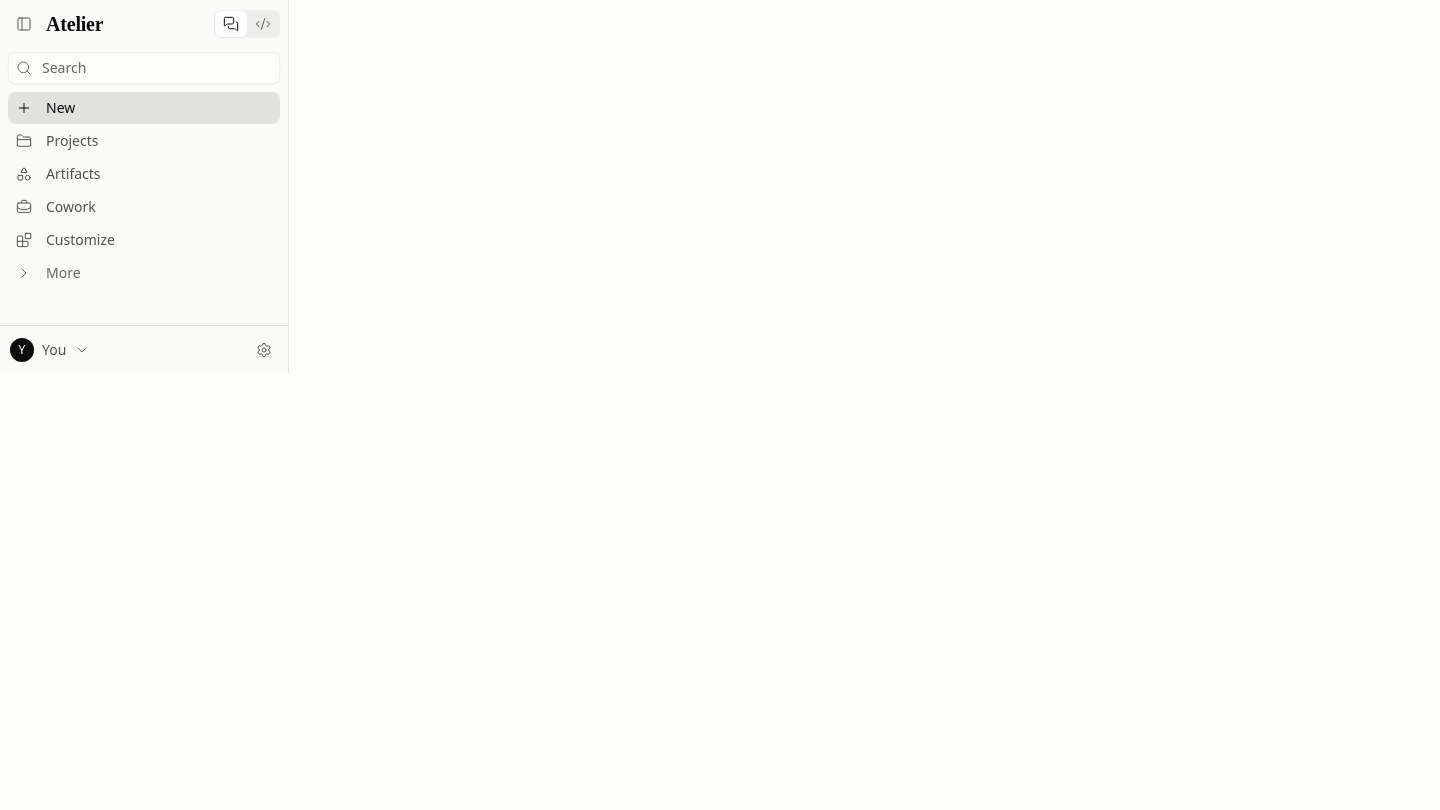
Scenario: Sidebar › has two mode tabs; Chat lists New, Projects, Artifacts, Cowork and Customize, and More opens in place
Expected: the text "Atelier" is shown, [46,12,104,36]
What coordinates should you click on to do the following:
click the link "Cowork"
I would click on:
 (56, 206)
Its box is [16,197,96,216].
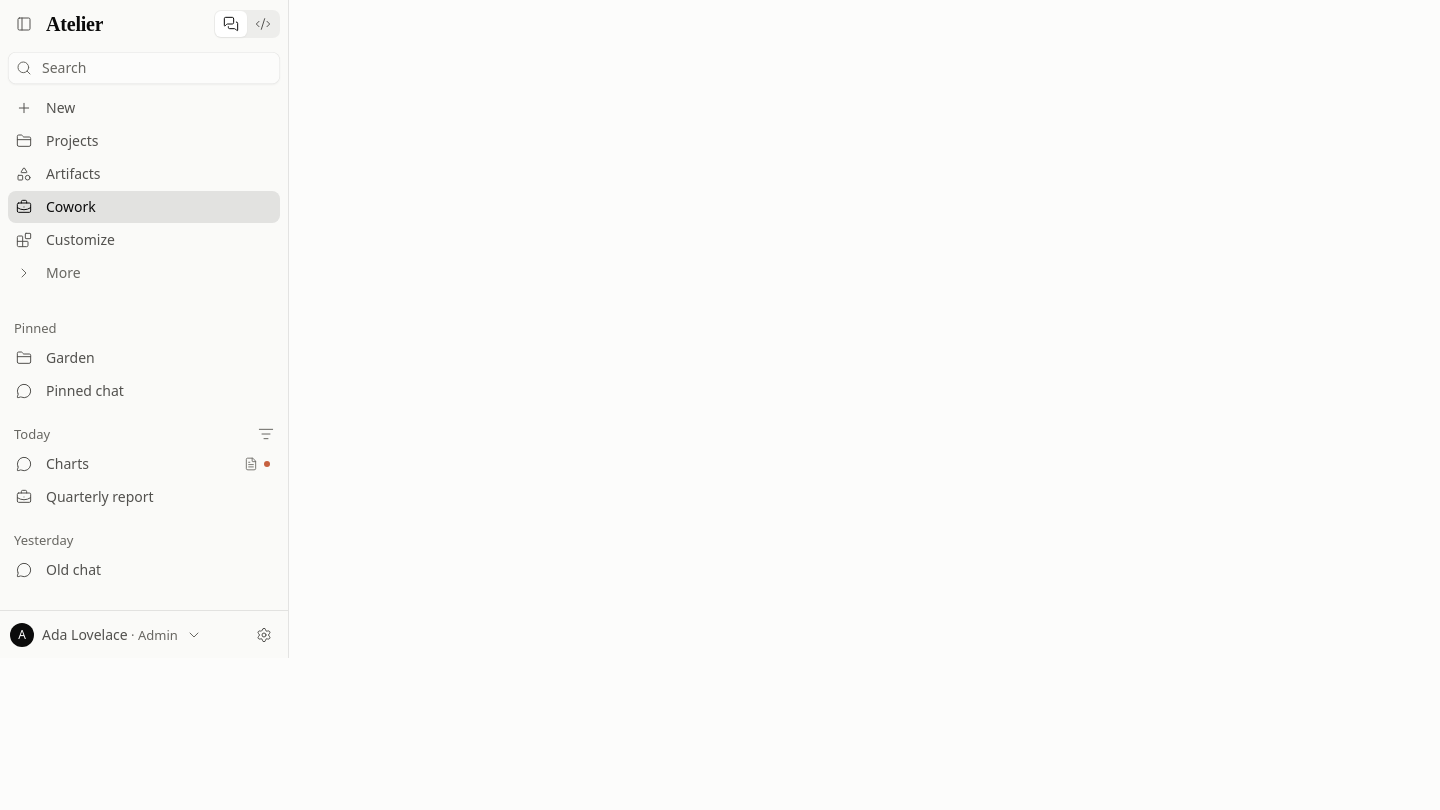
Expected: the button "Keyboard shortcuts" is not shown
What coordinates should you click on to do the following:
click the button "More"
I would click on:
 (63, 272)
Its box is [8,257,280,289].
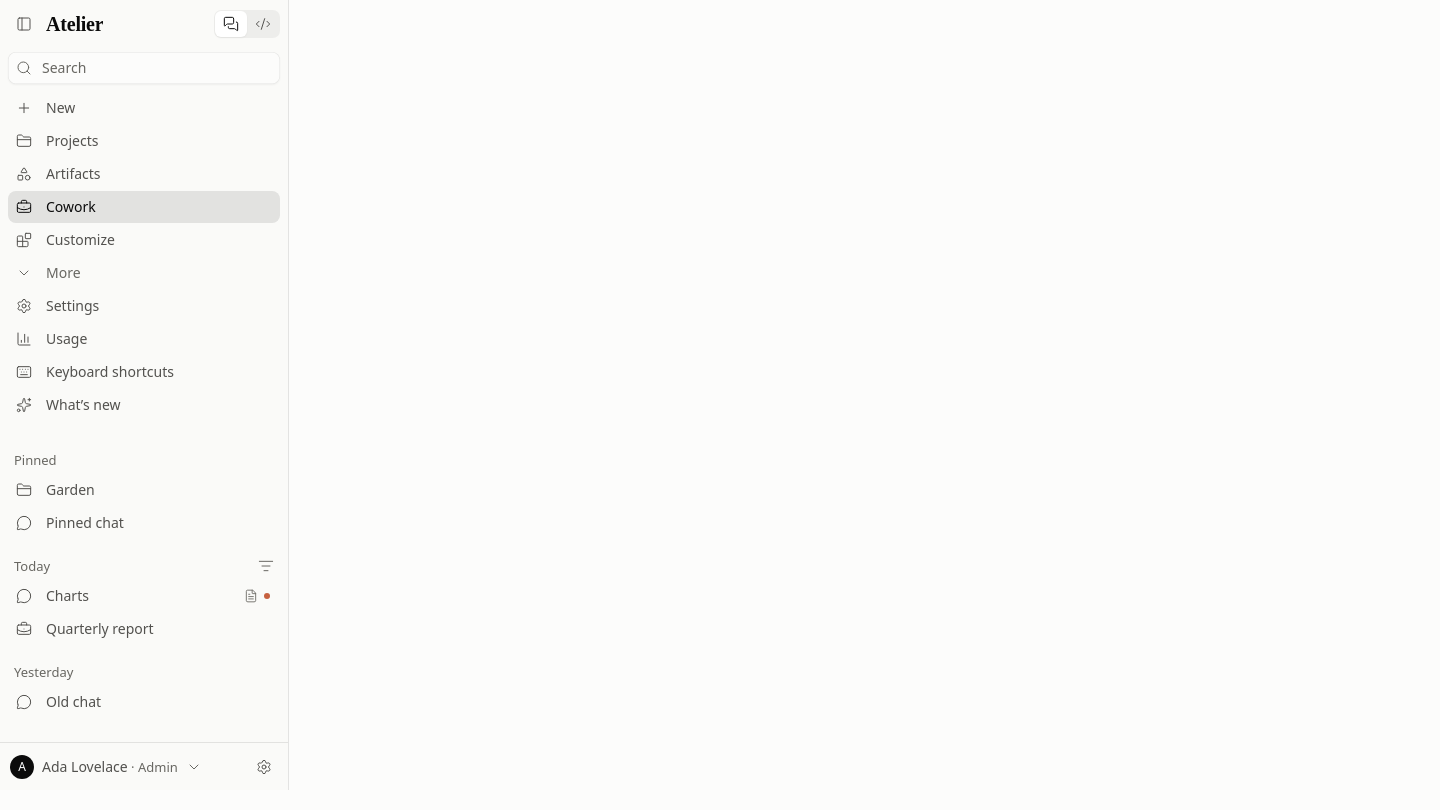
What coordinates should you click on to do the following:
click the button "Keyboard shortcuts"
I would click on:
 (144, 372)
Its box is [8,356,280,388].
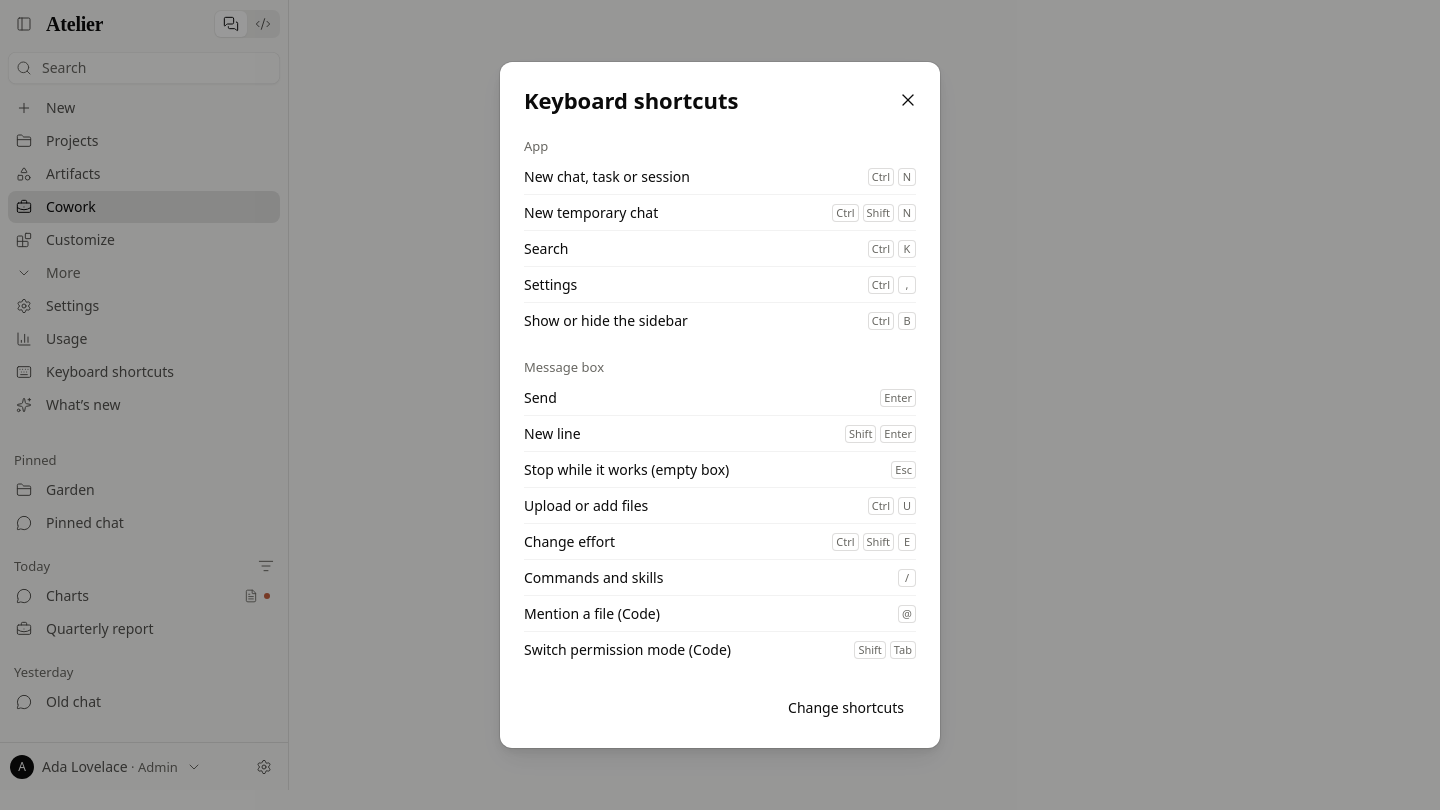
Expected: the dialog "Keyboard shortcuts" is shown, [500,62,940,748]
